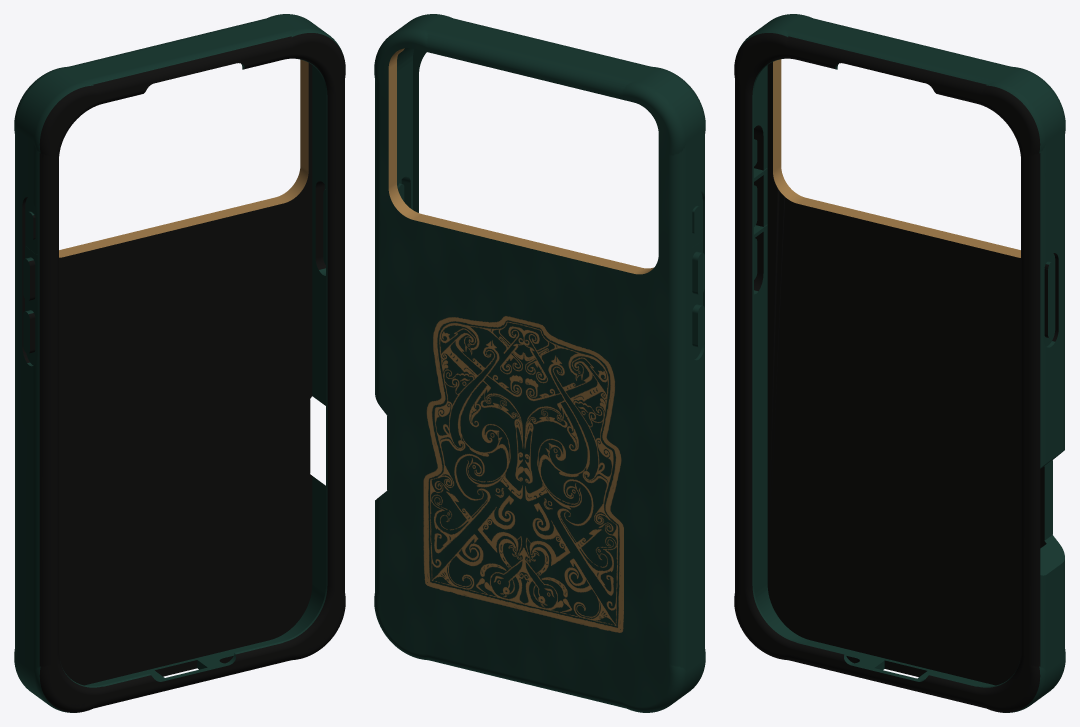
Rendered from 04-bronze-geometry.glb.
3 views of the same model, side by side, from view 1: azimuth 30°, elevation 25°; view 2: azimuth 150°, elevation 25°; view 3: azimuth 330°, elevation 25° (orthographic).
Parts seen in each view (by area): view 1: ChuLacquerCase; view 2: ChuLacquerCase; view 3: ChuLacquerCase.
Boxes of the visible parts, bbox=[...] form: ChuLacquerCase: bbox=[14, 14, 345, 712]; ChuLacquerCase: bbox=[374, 14, 705, 712]; ChuLacquerCase: bbox=[734, 14, 1065, 712].
Bounding box in the file's own units: 0.0874 × 0.168 × 0.015.
4 materials, 1 textured.
